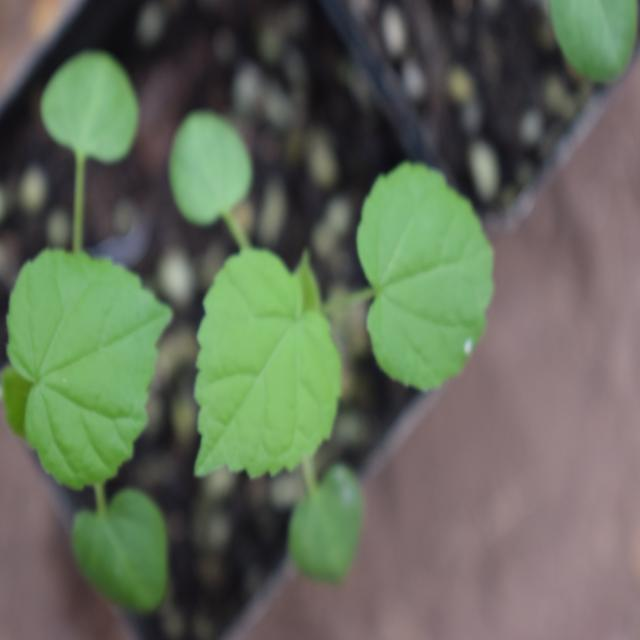abutilon theophrasti: (164, 125, 506, 607)
